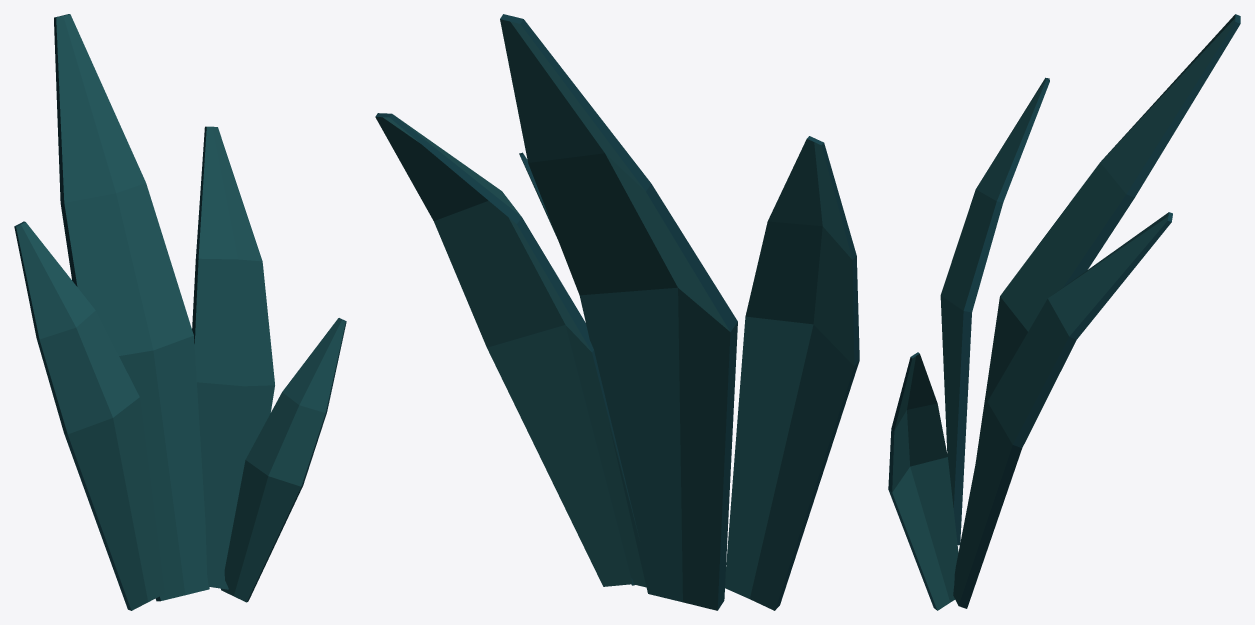
The model's file is Grass_02.glb.
3 renders of one model, left to right at view 1: azimuth 30°, elevation 25°; view 2: azimuth 150°, elevation 25°; view 3: azimuth 270°, elevation 25°, orthographic. The views are drawn at different scales.
Visible parts, largest first — view 1: Grass_02; view 2: Grass_02; view 3: Grass_02.
Part boxes in pixels (left/top/right/bottom): Grass_02: left=14, top=14, right=346, bottom=610; Grass_02: left=375, top=14, right=859, bottom=610; Grass_02: left=888, top=14, right=1240, bottom=610.
Bounding box in the file's own units: 0.2795 × 0.4935 × 0.2793.
Materials: 1 (1 with a texture image).
